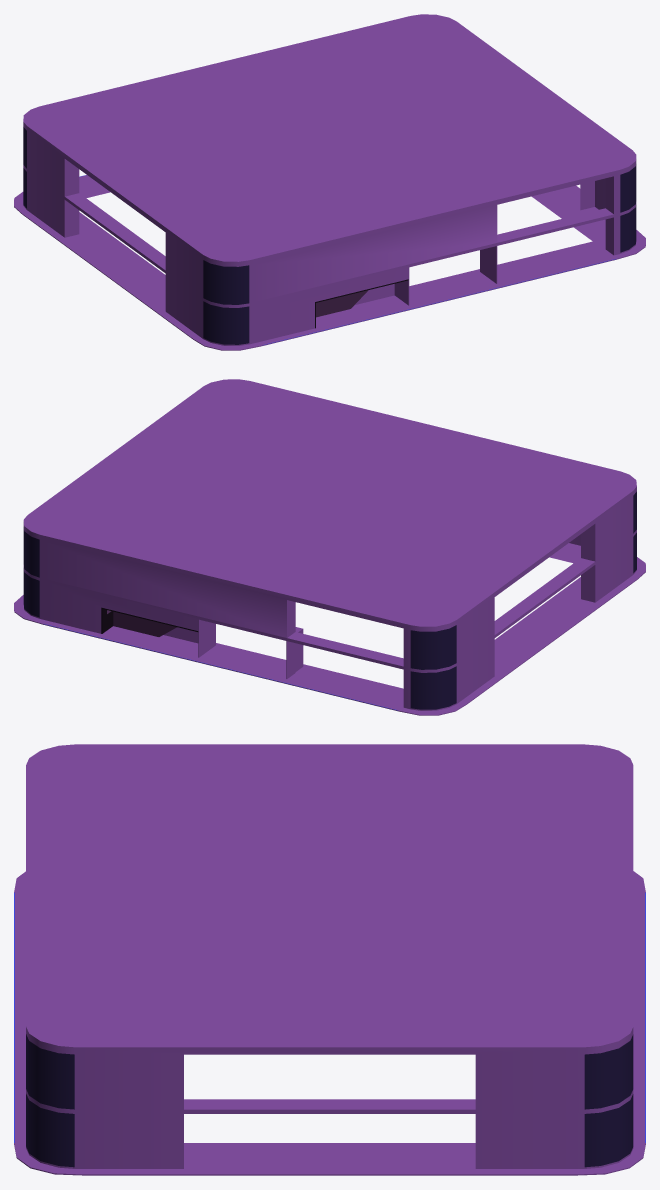
Rendered from Building_004_1st_L3.fbx.
3 views of the same model, one above another, from view 1: azimuth 30°, elevation 25°; view 2: azimuth 150°, elevation 25°; view 3: azimuth 270°, elevation 25° (orthographic). The views are drawn at different scales.
Parts seen in each view (by area): view 1: Building_004_1st_L3; view 2: Building_004_1st_L3; view 3: Building_004_1st_L3.
Boxes of the visible parts, left/top/right/bottom form: Building_004_1st_L3: left=14, top=14, right=645, bottom=350; Building_004_1st_L3: left=14, top=379, right=645, bottom=715; Building_004_1st_L3: left=14, top=744, right=645, bottom=1175.
Size of the model in its own units: 61.06 by 11.16 by 52.04.
